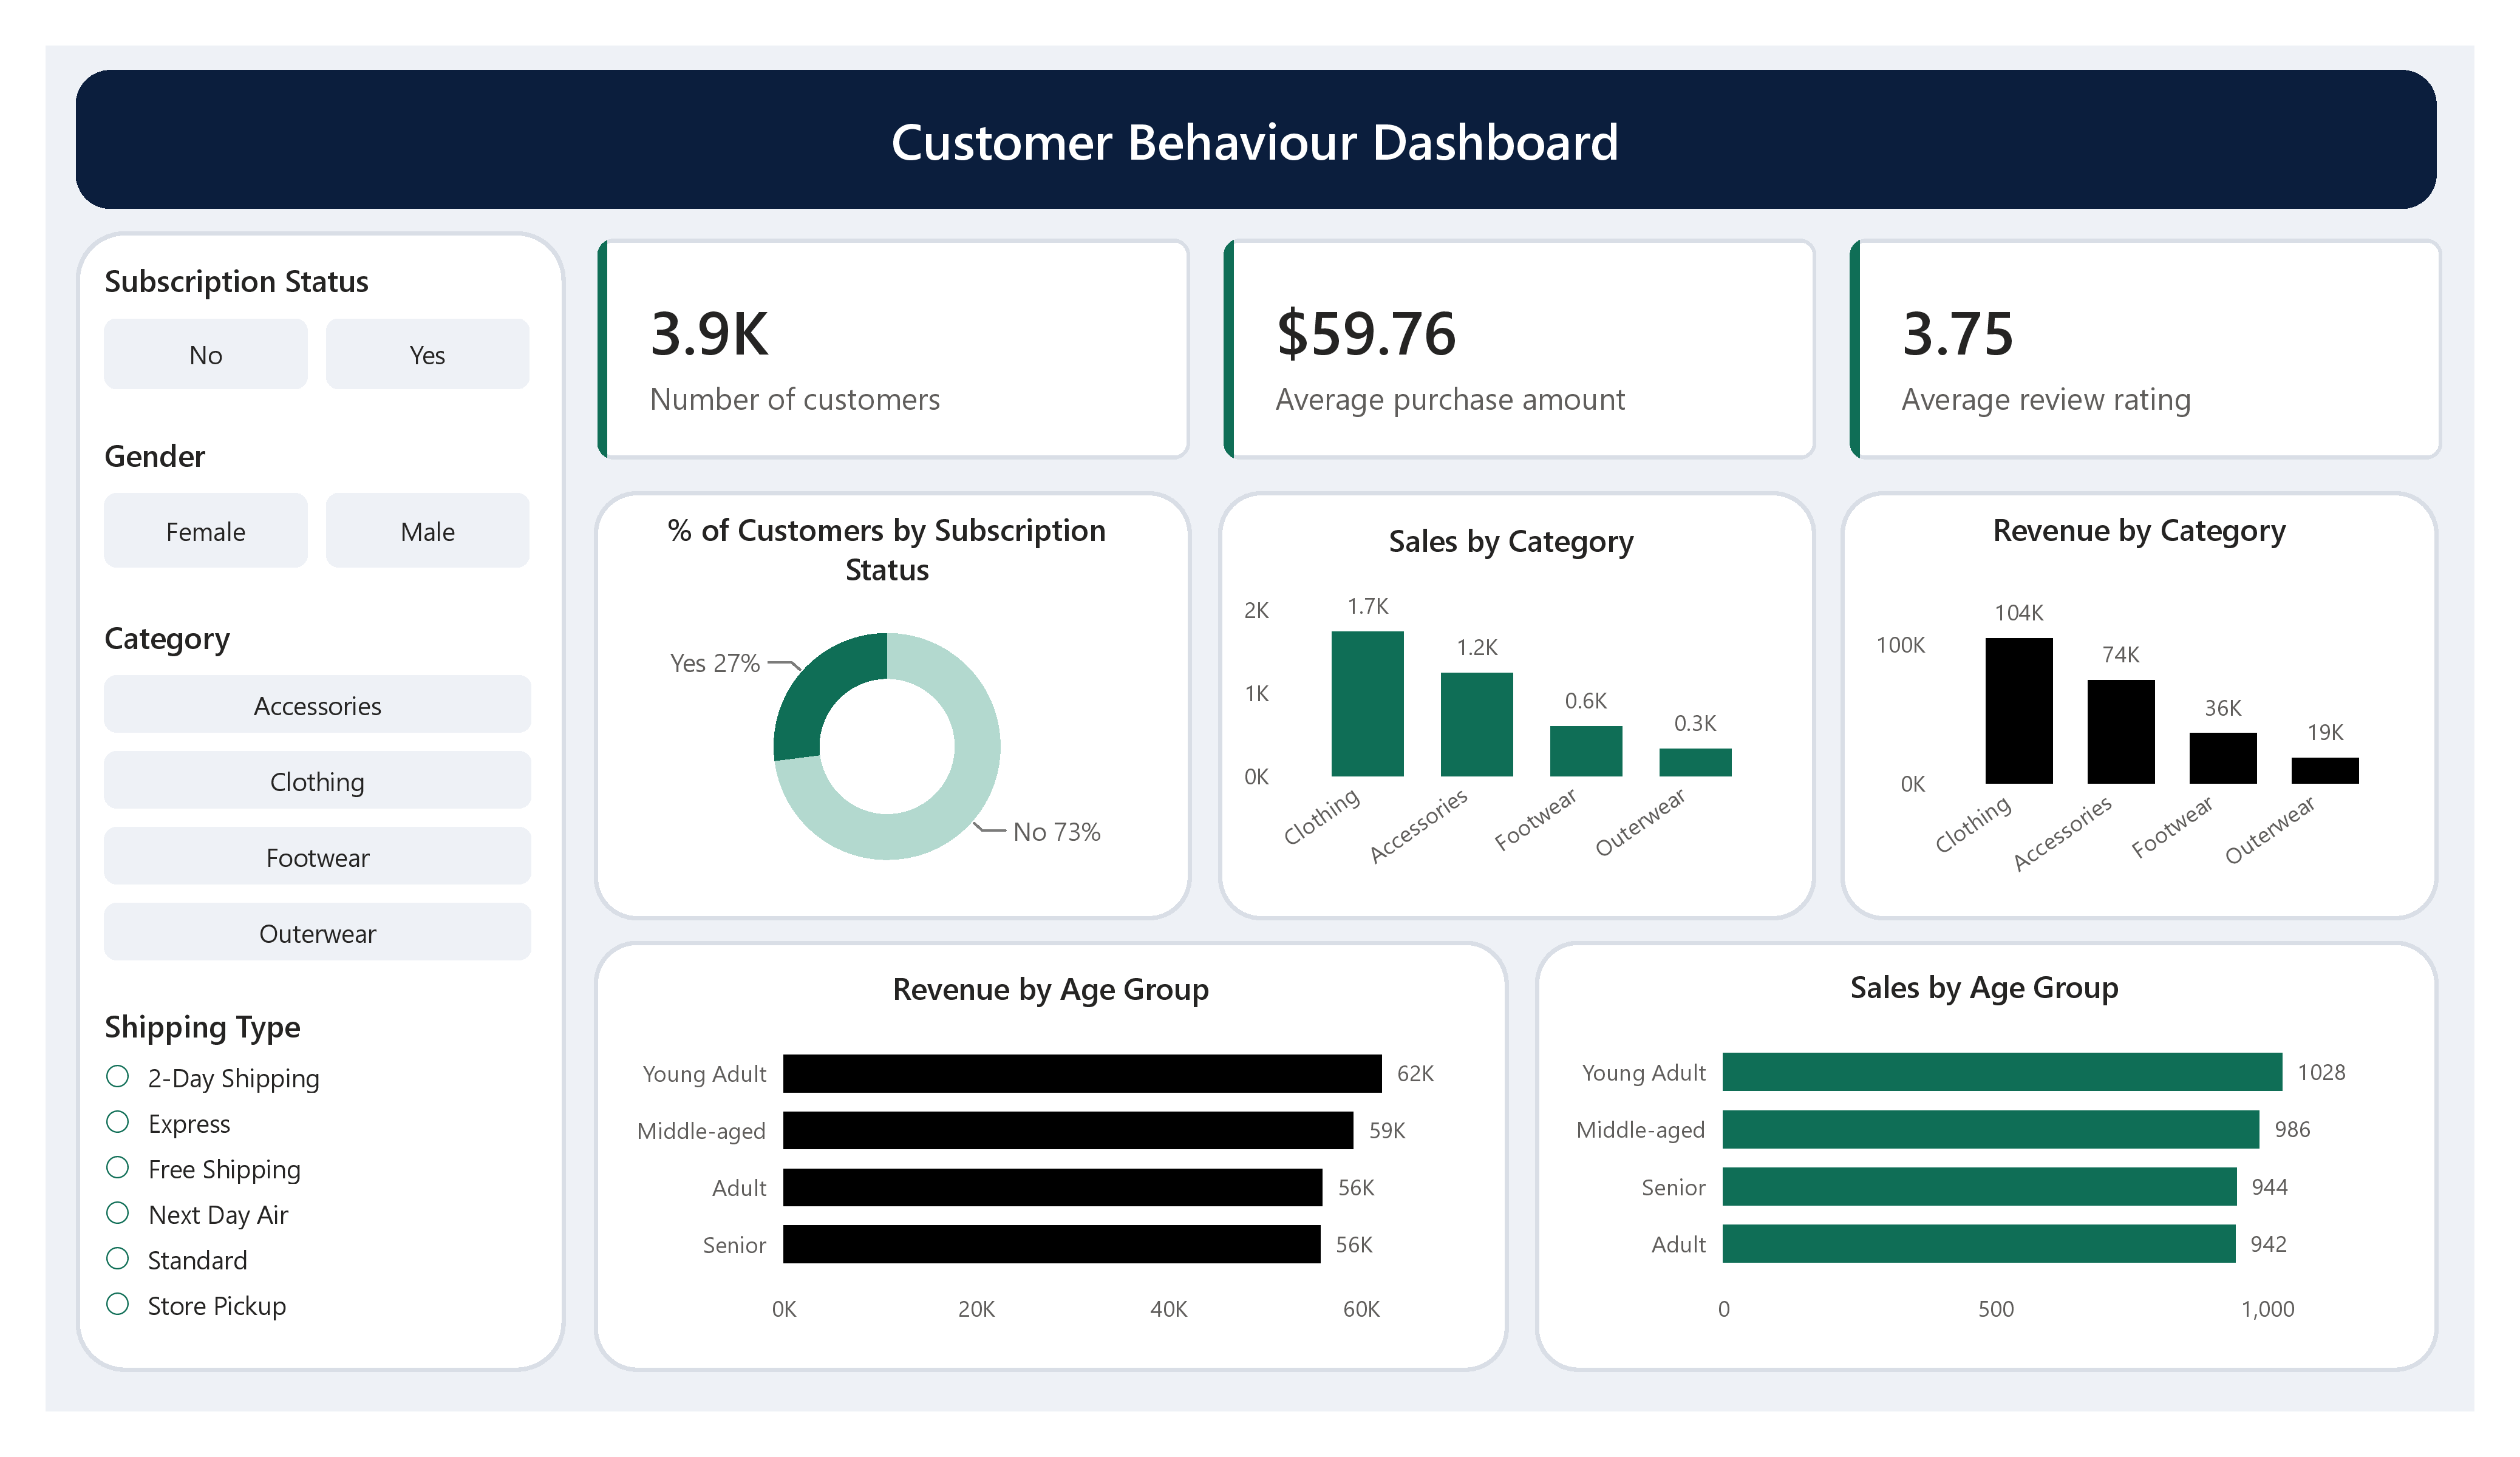

Layout of this report page (visuals, bound fields, positions):
{"tool":"powerbi","page":{"name":"Page 1","canvas":[1280,720],"ordinal":0},"visuals":[{"type":"shape","box":[784.5,472.2,476.3,226.8],"z":0},{"type":"shape","box":[288.7,472.2,482.5,226.8],"z":1000},{"type":"shape","box":[946.2,235,315,226.2],"z":2000},{"type":"shape","box":[617.5,235,315,226.2],"z":3000},{"type":"shape","box":[288.8,235,315,226.2],"z":4000},{"type":"shape","box":[15.7,12.9,1244.3,72.9],"z":5000},{"type":"cardVisual","fields":{"Data":["public customer.Number of customers","public customer.Average purchase amount","public customer.Average review rating"]},"box":[273.8,85,1006.2,150],"z":6000},{"type":"clusteredColumnChart","title":"Revenue by Category","fields":{"Category":["public customer.category"],"Y":["Sum(public customer.purchase_amount)"]},"box":[958.8,243.8,288.8,208.8],"z":7000},{"type":"donutChart","title":"% of Customers by Subscription Status","fields":{"Category":["public customer.subscription_status"],"Y":["CountNonNull(public customer.customer_id)"]},"box":[301.2,243.8,285,208.8],"z":8000},{"type":"clusteredColumnChart","title":"Sales by Category","fields":{"Y":["CountNonNull(public customer.customer_id)"],"Category":["public customer.category"]},"box":[626.2,250,292.5,196.2],"z":9000},{"type":"clusteredBarChart","title":"Revenue by Age Group","fields":{"Y":["Sum(public customer.purchase_amount)"],"Category":["public customer.age_group"]},"box":[301.2,486.2,457.5,197.5],"z":10000},{"type":"clusteredBarChart","title":"Sales by Age Group","fields":{"Category":["public customer.age_group"],"Y":["CountNonNull(public customer.customer_id)"]},"box":[796.2,485,451.2,198.8],"z":11000},{"type":"shape","box":[16.2,97.5,257.5,601.2],"z":12000},{"type":"advancedSlicerVisual","fields":{"Values":["public customer.subscription_status"]},"box":[26.2,112.5,235,73.8],"z":13000},{"type":"advancedSlicerVisual","title":"Gender","fields":{"Values":["public customer.gender"]},"box":[26.2,205,235,75],"z":14000},{"type":"advancedSlicerVisual","title":"Category","fields":{"Values":["public customer.category"]},"box":[26.2,301.2,235,187.5],"z":15000},{"type":"listSlicer","title":"Shipping Type","fields":{"Values":["public customer.shipping_type"]},"box":[26.2,506.2,235,180],"z":16000}]}

Visuals, with their boxes on the page's 1280x720 design canvas (x1, y1, x2, y2). These are canvas units, not pixel positions in the 2520x1457 screenshot, which may show the page scaled, cropped or inside an application window:
shape: x1=784 y1=472 x2=1261 y2=699
shape: x1=289 y1=472 x2=771 y2=699
shape: x1=946 y1=235 x2=1261 y2=461
shape: x1=618 y1=235 x2=932 y2=461
shape: x1=289 y1=235 x2=604 y2=461
shape: x1=16 y1=13 x2=1260 y2=86
cardVisual - public customer.Number of customers x public customer.Average purchase amount: x1=274 y1=85 x2=1280 y2=235
"Revenue by Category" clusteredColumnChart: x1=959 y1=244 x2=1248 y2=453
"% of Customers by Subscription Status" donutChart: x1=301 y1=244 x2=586 y2=453
"Sales by Category" clusteredColumnChart: x1=626 y1=250 x2=919 y2=446
"Revenue by Age Group" clusteredBarChart: x1=301 y1=486 x2=759 y2=684
"Sales by Age Group" clusteredBarChart: x1=796 y1=485 x2=1247 y2=684
shape: x1=16 y1=98 x2=274 y2=699
advancedSlicerVisual - public customer.subscription_status: x1=26 y1=112 x2=261 y2=186
"Gender" advancedSlicerVisual: x1=26 y1=205 x2=261 y2=280
"Category" advancedSlicerVisual: x1=26 y1=301 x2=261 y2=489
"Shipping Type" listSlicer: x1=26 y1=506 x2=261 y2=686
